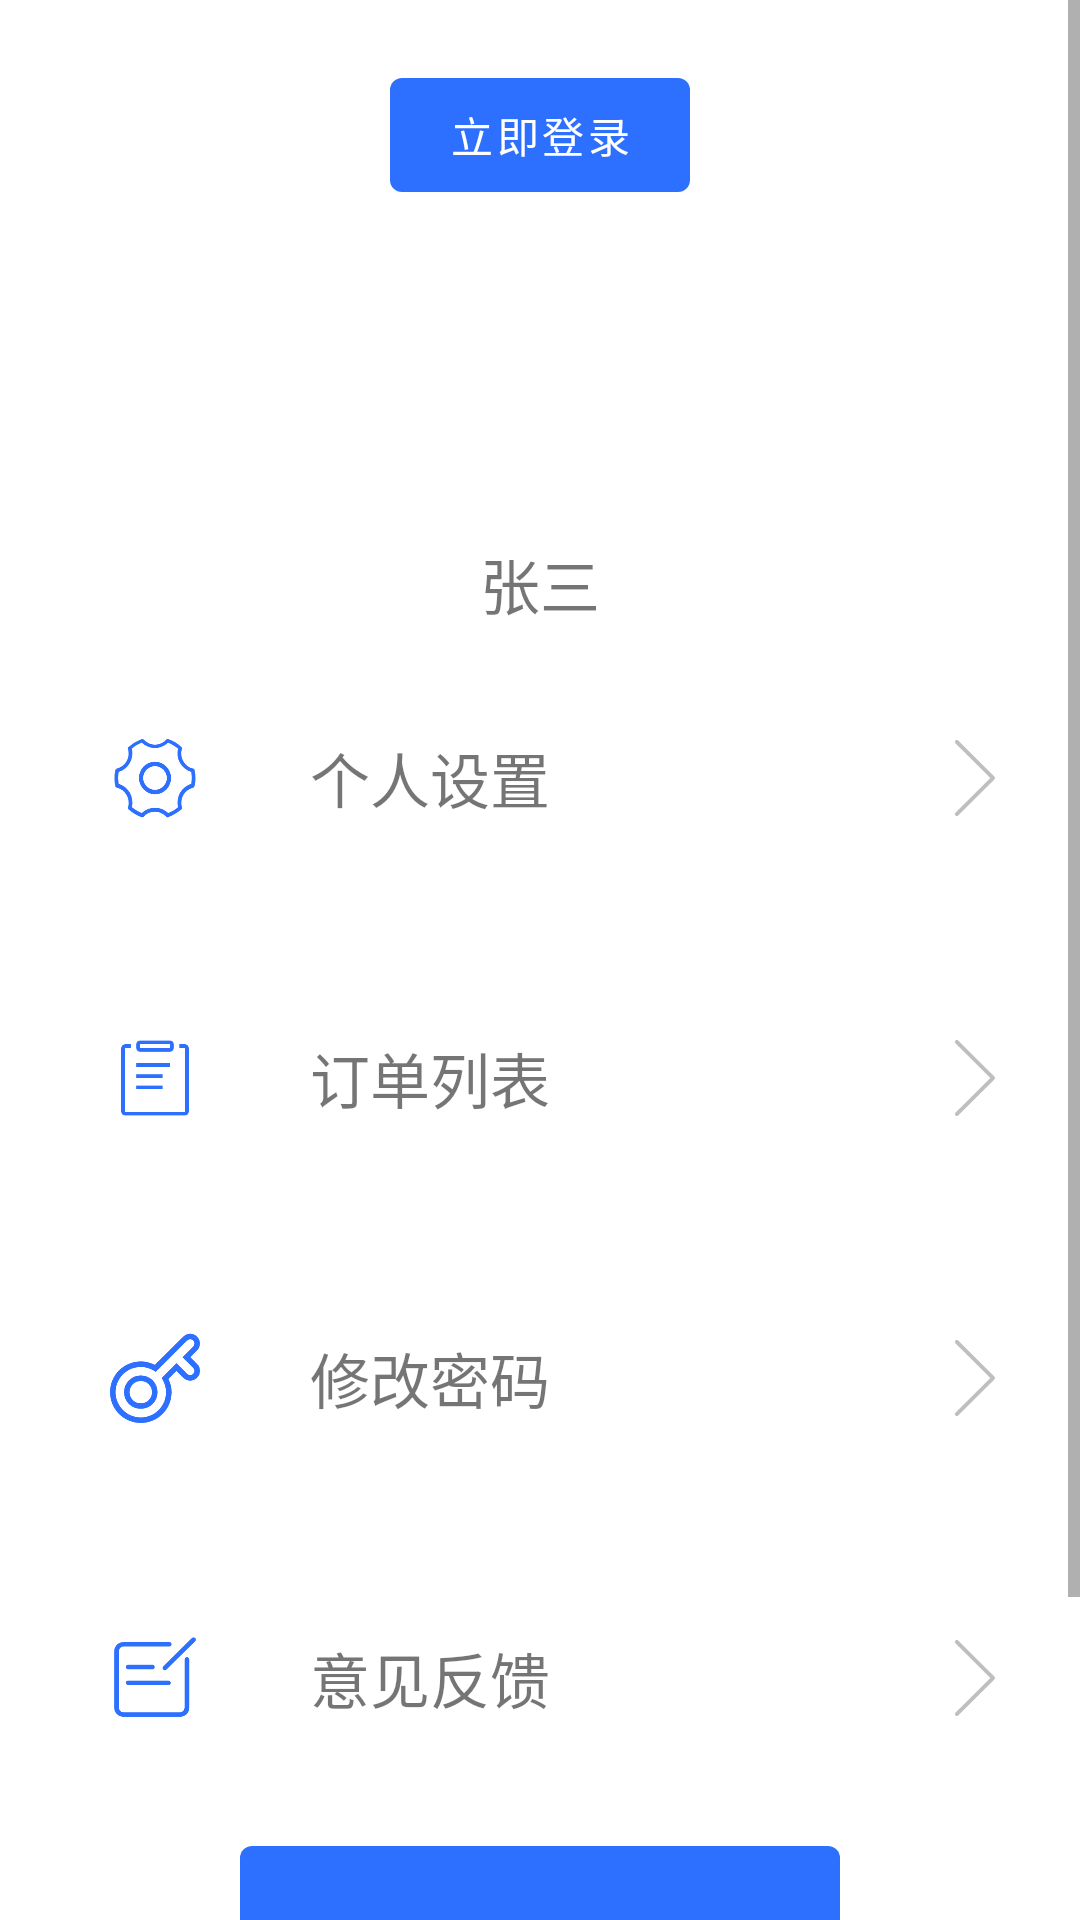

Where icons sit on this 1080 × 1920 app screen, as [x1, y1, x2, y2]:
change password: [110, 1333, 200, 1423]
feedback: [114, 1637, 196, 1717]
jump: [955, 740, 995, 816], [955, 1040, 995, 1116], [955, 1340, 995, 1416], [955, 1640, 995, 1716]
order: [121, 1040, 189, 1116]
setting: [114, 739, 196, 818]
